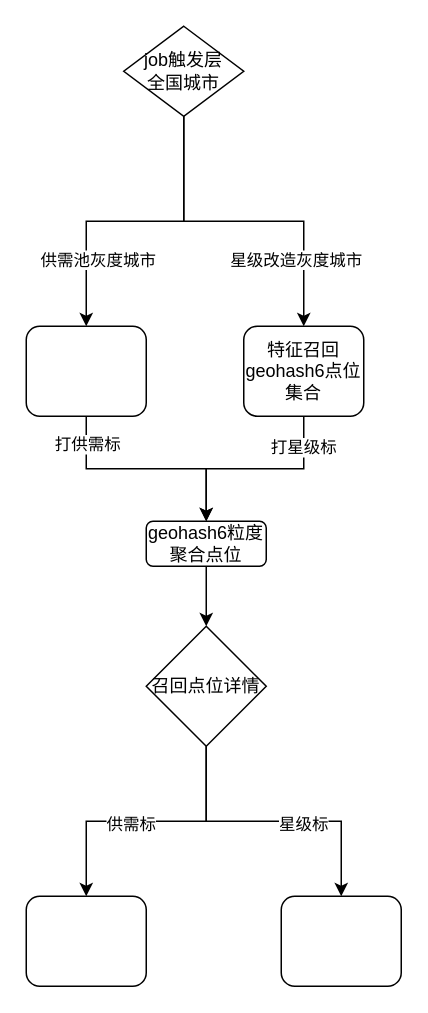
Image size: 428x1013. Some labels were removed from this diagram. The shapes that lost their labels are listed below. From the top down, each one's box as (x1, y1, x2, y2) in pixels, then its label:
(25, 325, 146, 416): es召回geohash6点位集合
(25, 895, 146, 986): 供需模型
